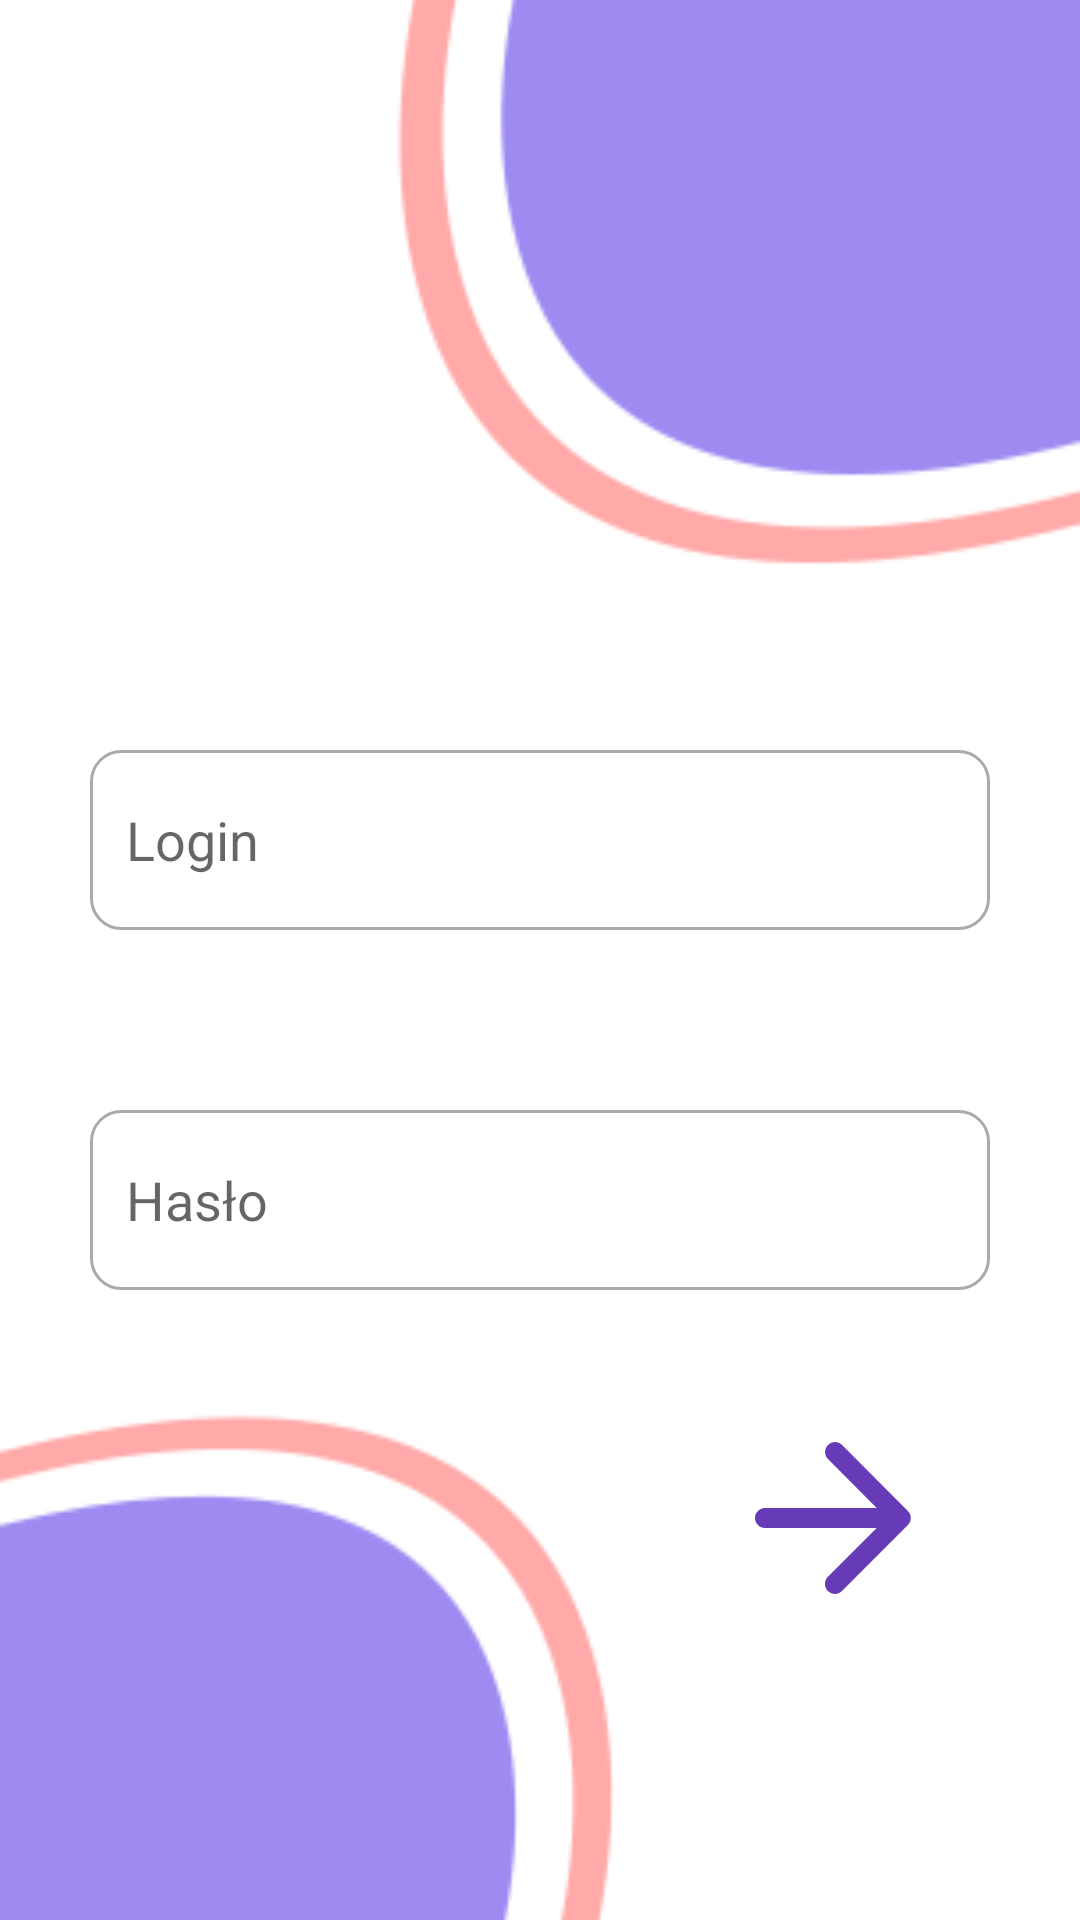

Icons on this 1080px x 1920px Android screen, each with the point to tap as point (x, y):
login arrow: point (833, 1518)
